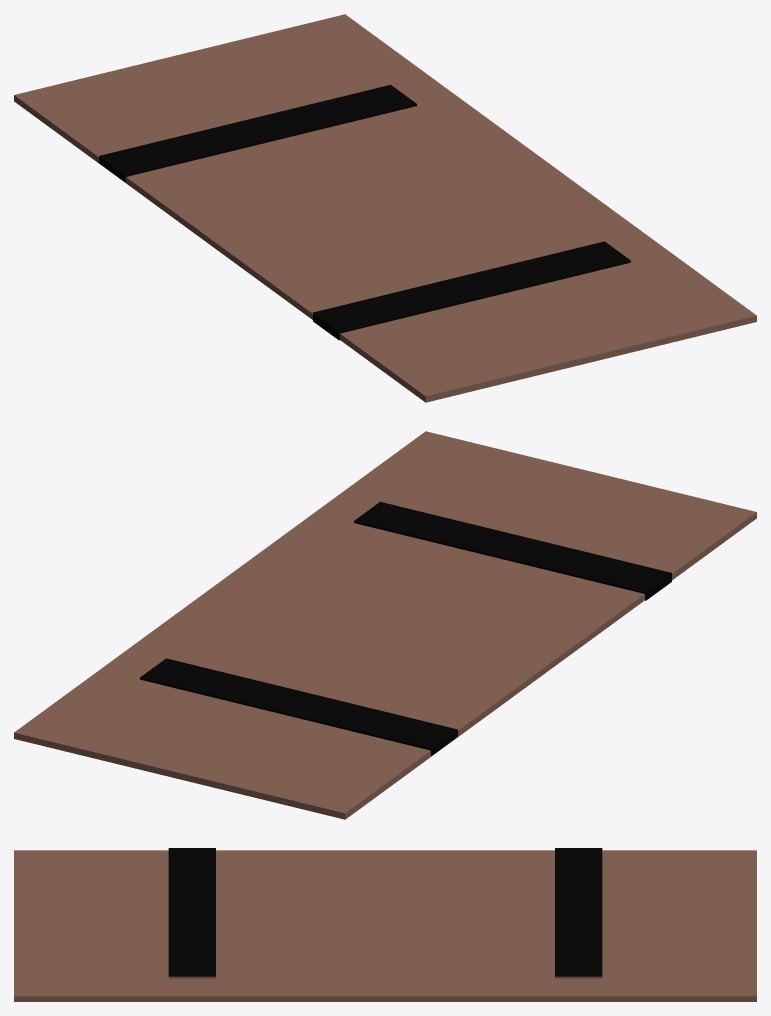
File: CHESTFlap.fbx
3 views of the same model, one above another, from view 1: azimuth 30°, elevation 25°; view 2: azimuth 150°, elevation 25°; view 3: azimuth 270°, elevation 25° (orthographic). The views are drawn at different scales.
Visible parts, largest first — view 1: Cube.003; view 2: Cube.003; view 3: Cube.003.
Part boxes in pixels (x1=…): Cube.003: x1=14, y1=14, x2=756, y2=402; Cube.003: x1=14, y1=431, x2=756, y2=819; Cube.003: x1=14, y1=848, x2=756, y2=1001.
Bounding box in the file's own units: 205 × 5.18 × 440.
